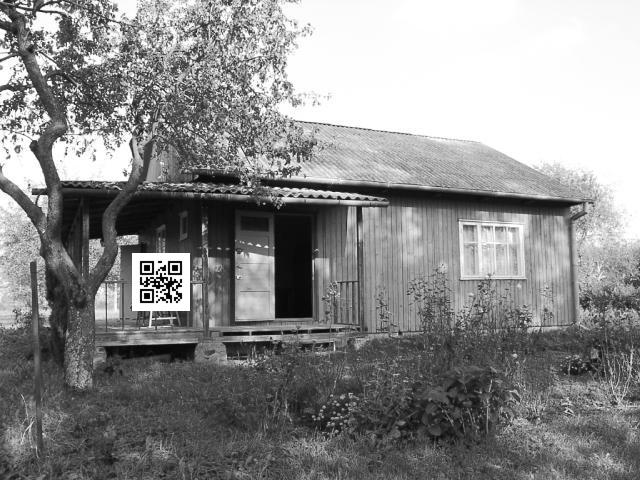qr_code: (132, 253, 190, 311)
